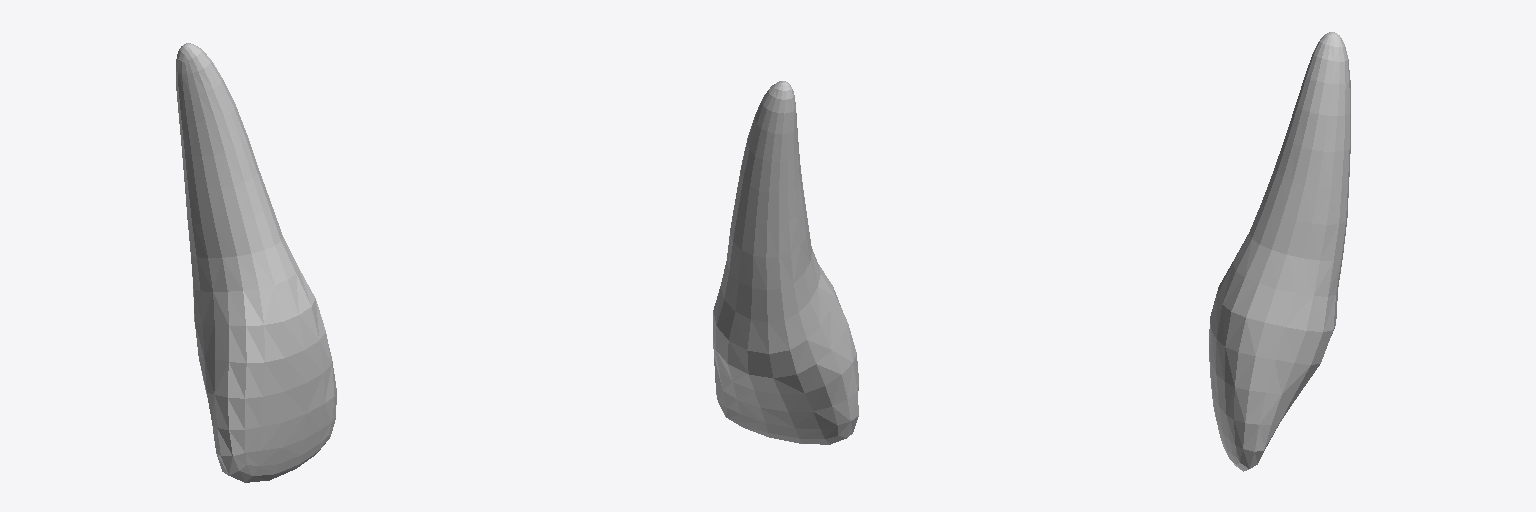
Rendered from tooth_1.obj.
The picture shows the model from 3 angles: view 1: azimuth 30°, elevation 25°; view 2: azimuth 150°, elevation 25°; view 3: azimuth 270°, elevation 25°; orthographic projection.
Visible parts, largest first — view 1: mmGroup0; view 2: mmGroup0; view 3: mmGroup0.
Part boxes in pixels (bbox=[...]): mmGroup0: bbox=[176, 43, 336, 482]; mmGroup0: bbox=[713, 81, 858, 444]; mmGroup0: bbox=[1209, 32, 1350, 471].
Size of the model in its own units: 2.54 by 7.67 by 2.44.